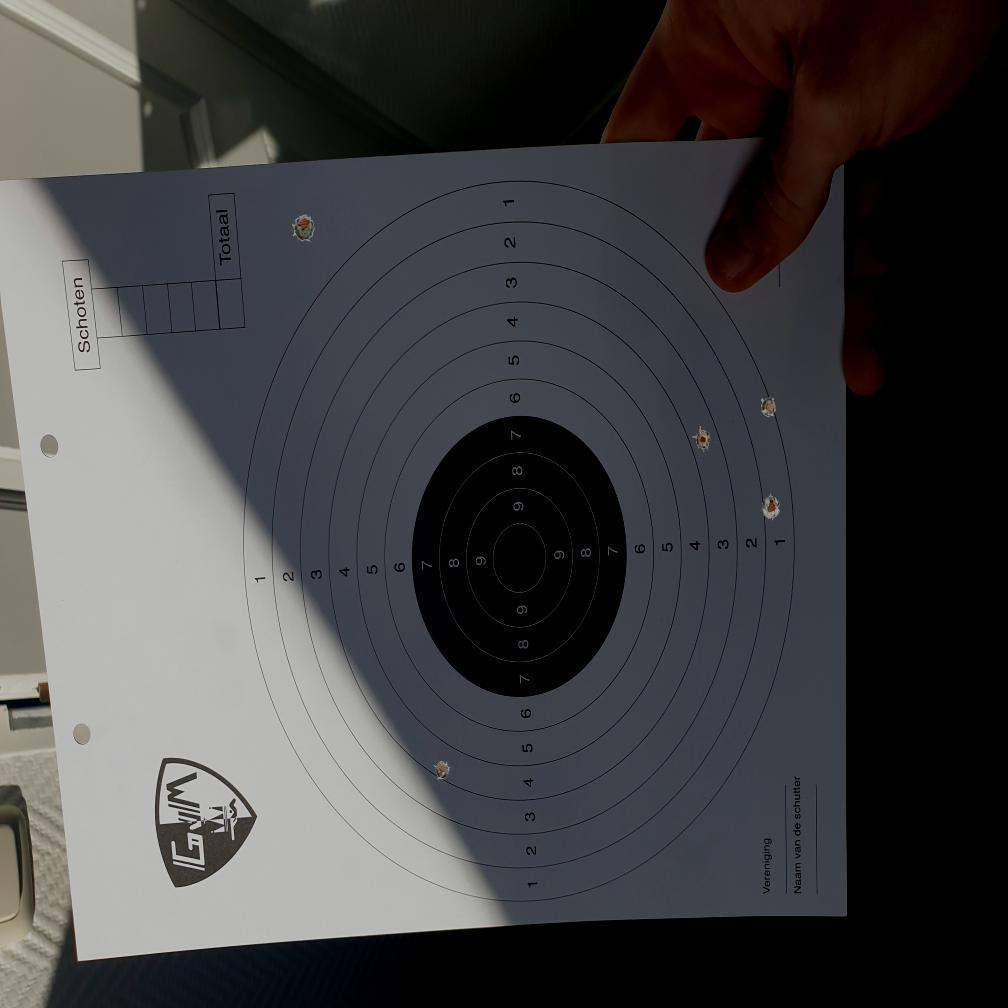0: (292, 213, 315, 242)
1: (760, 397, 776, 418)
2: (762, 493, 780, 521)
3: (691, 425, 711, 452)
4: (433, 761, 451, 780)
Target: (243, 174, 797, 904)
black_contour: (412, 414, 626, 696)
